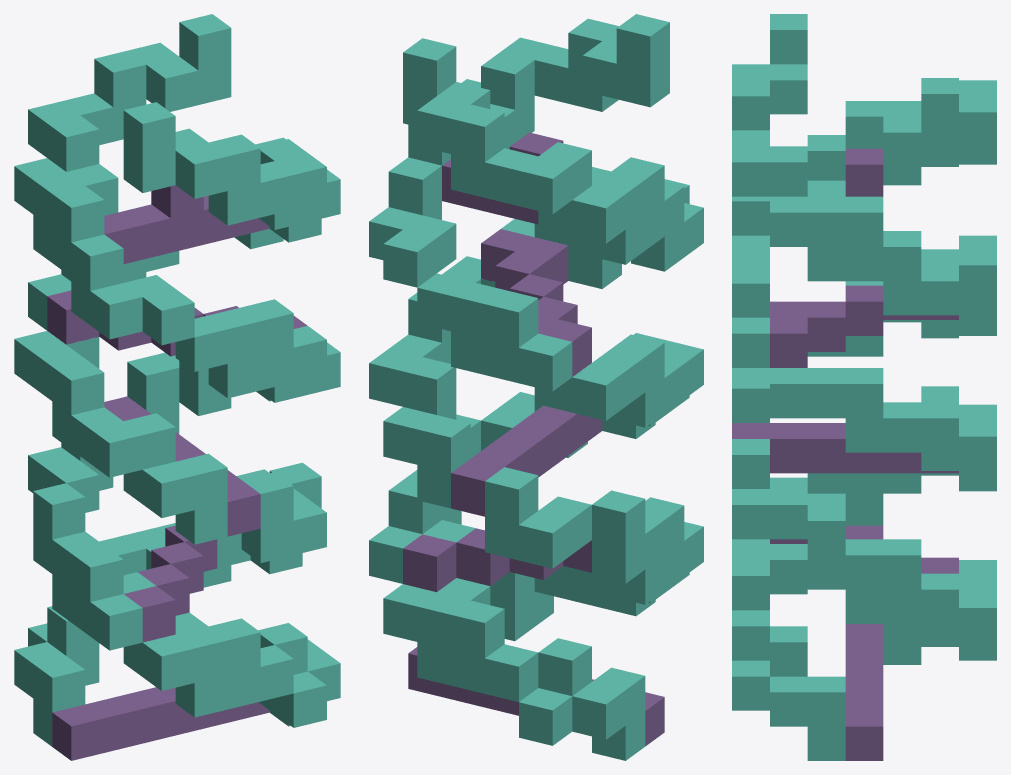
File: alien-biosphere-helix-vine-d2599a8c__22822.glb
3 renders of one model, left to right at view 1: azimuth 30°, elevation 25°; view 2: azimuth 150°, elevation 25°; view 3: azimuth 270°, elevation 25°, orthographic. The views are drawn at different scales.
Parts seen in each view (by area): view 1: helix-vine; view 2: helix-vine; view 3: helix-vine.
Part boxes in pixels (x1,y1,x2,y2): helix-vine: (14,14,340,760); helix-vine: (369,14,703,760); helix-vine: (732,14,996,760).
Bounding box in the file's own units: 1.26 × 3.42 × 1.26.
